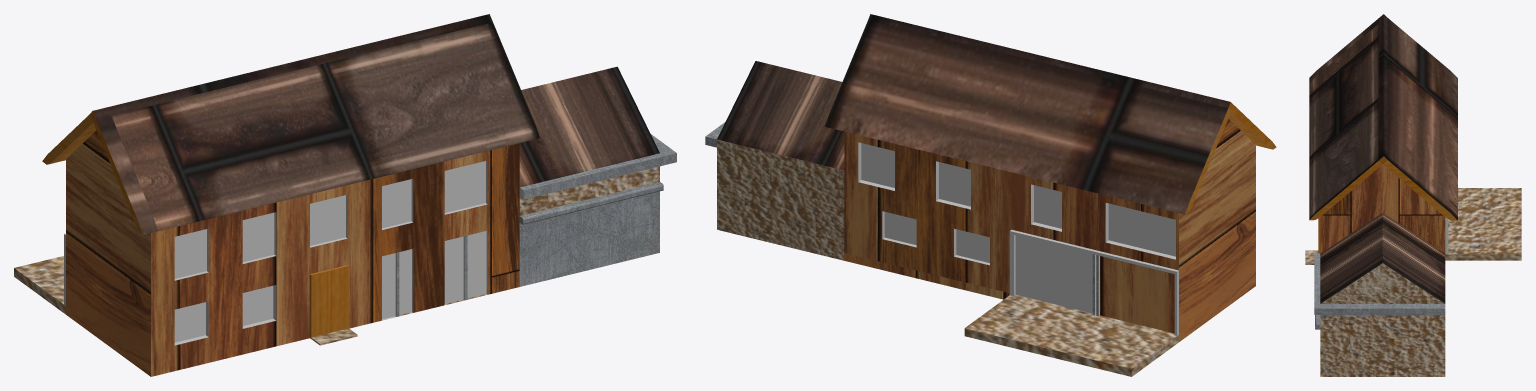
The model's file is PasadenaHouseFacade.fbx.
3 renders of one model, left to right at view 1: azimuth 30°, elevation 25°; view 2: azimuth 150°, elevation 25°; view 3: azimuth 270°, elevation 25°, orthographic. The views are drawn at different scales.
Parts seen in each view (by area): view 1: pCube1; view 2: pCube1; view 3: pCube1.
Boxes of the visible parts, x1=… form: pCube1: x1=14, y1=14, x2=676, y2=376; pCube1: x1=705, y1=14, x2=1276, y2=376; pCube1: x1=1305, y1=14, x2=1521, y2=376.
Size of the model in its own units: 23.21 by 9.83 by 11.01.
